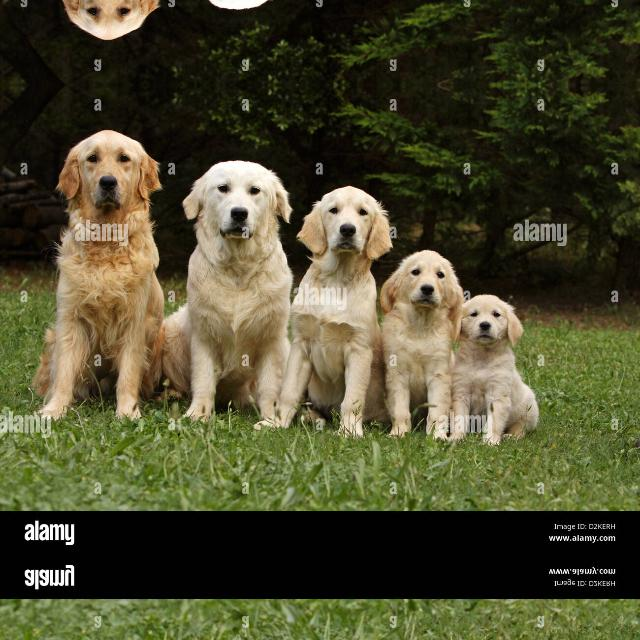dog: (38, 111, 164, 443), (168, 132, 302, 428), (296, 154, 390, 463), (463, 264, 543, 471), (394, 236, 462, 454), (38, 0, 163, 57), (168, 0, 302, 35), (295, 0, 390, 13), (463, 639, 543, 640)
